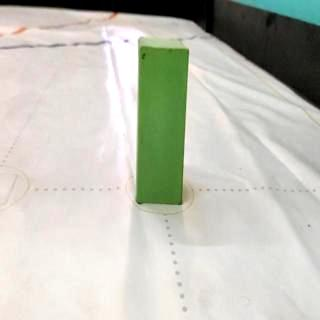greenbox: (138, 34, 188, 202)
